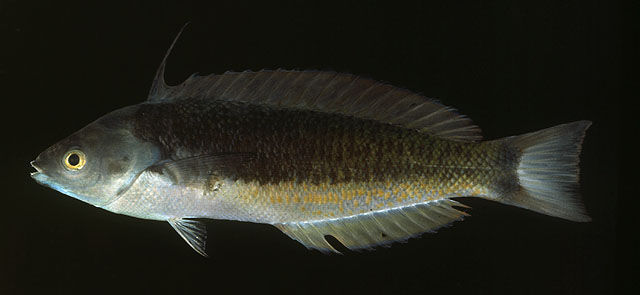fish: (28, 26, 599, 258)
